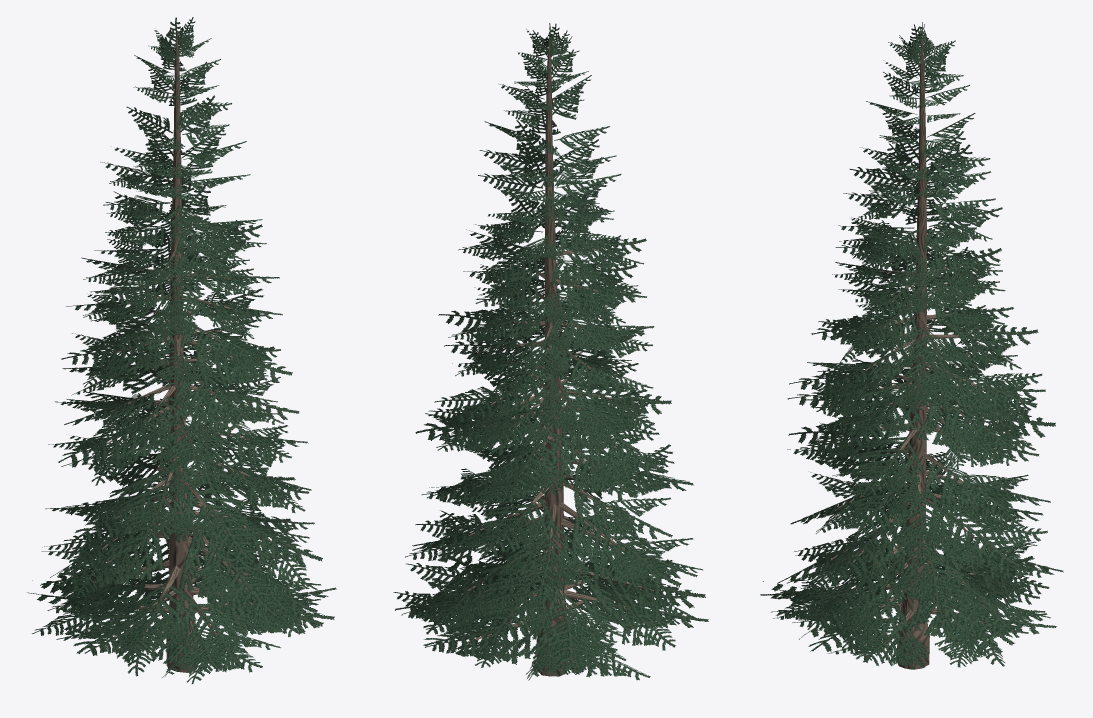
Rendered from environment_fir4_v1.fbx.
3 renders of one model, left to right at view 1: azimuth 30°, elevation 25°; view 2: azimuth 150°, elevation 25°; view 3: azimuth 270°, elevation 25°, orthographic.
Parts seen in each view (by area): view 1: environment_fir4_v1_lod0; view 2: environment_fir4_v1_lod0; view 3: environment_fir4_v1_lod0.
Part boxes in pixels (<box>): environment_fir4_v1_lod0: <box>27,17,336,683</box>; environment_fir4_v1_lod0: <box>393,23,708,680</box>; environment_fir4_v1_lod0: <box>760,22,1063,669</box>.
Size of what is drawn, in the model's own units: 1044 by 2220 by 1047.
